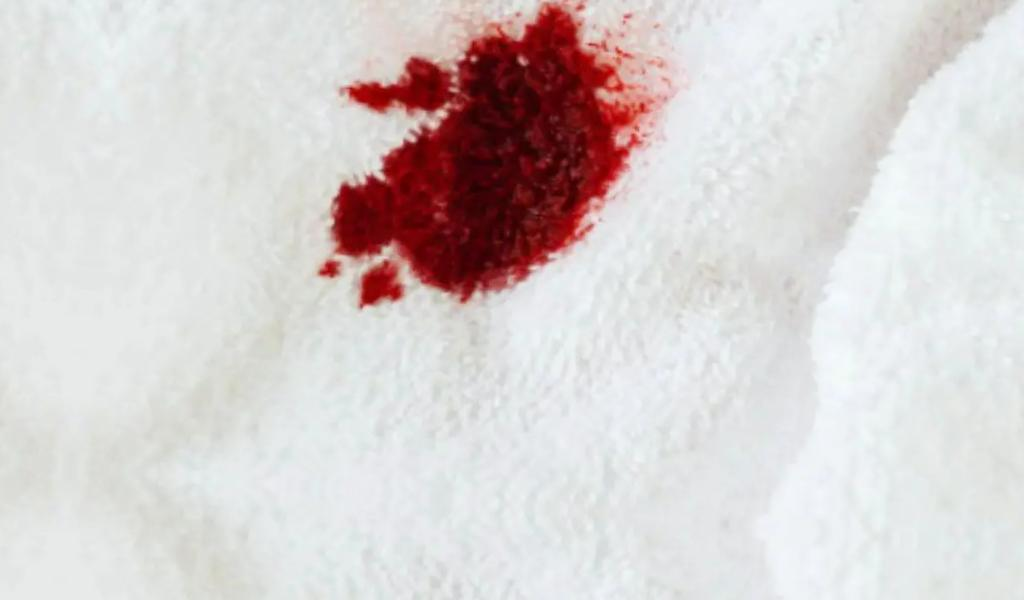stain: (305, 2, 680, 320)
